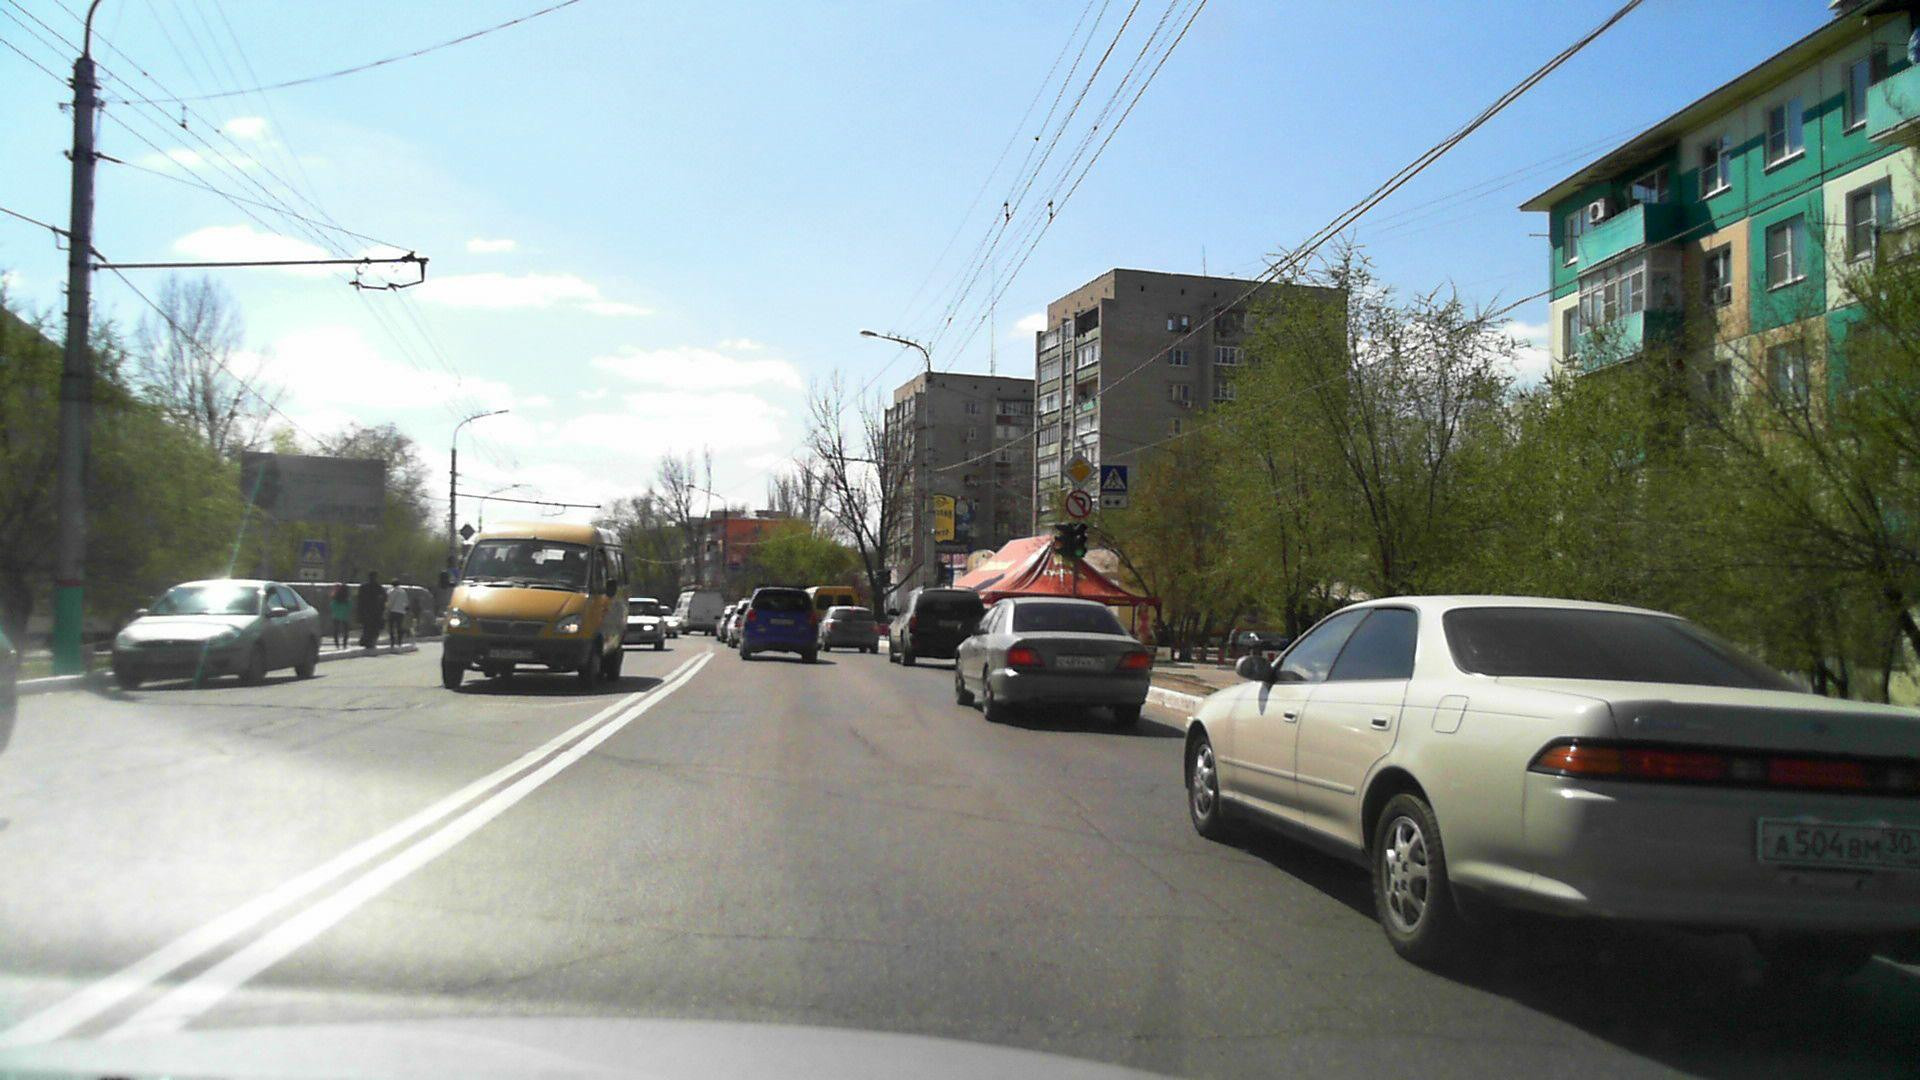2_1: (1062, 452, 1098, 487)
3_18_2: (1065, 489, 1093, 520)
5_19_1: (1100, 464, 1127, 491)
5_19_2: (302, 541, 327, 566)
8_15: (1100, 495, 1129, 509), (301, 566, 326, 582)
